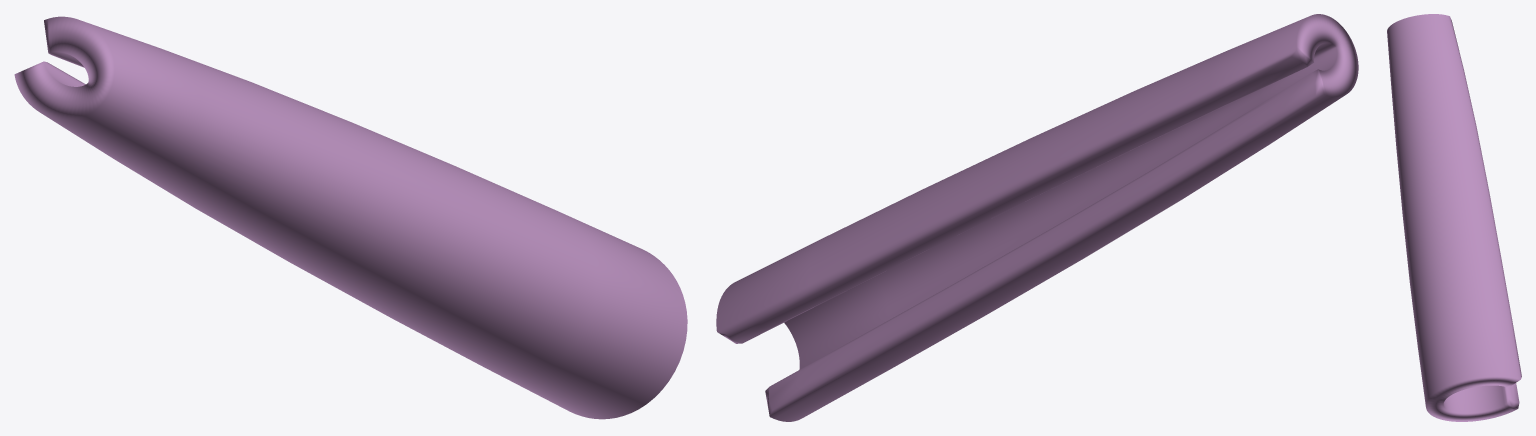
3 views of the same model, side by side, from view 1: azimuth 30°, elevation 25°; view 2: azimuth 150°, elevation 25°; view 3: azimuth 270°, elevation 25° (orthographic). The views are drawn at different scales.
Parts seen in each view (by area): view 1: 右侧咽鼓管; view 2: 右侧咽鼓管; view 3: 右侧咽鼓管.
Part boxes in pixels (x1,y1,x2,y2): 右侧咽鼓管: (14,16,687,419); 右侧咽鼓管: (716,14,1358,421); 右侧咽鼓管: (1387,14,1521,421).
Bounding box in the file's own units: 0.0317 × 0.0249 × 0.011.
